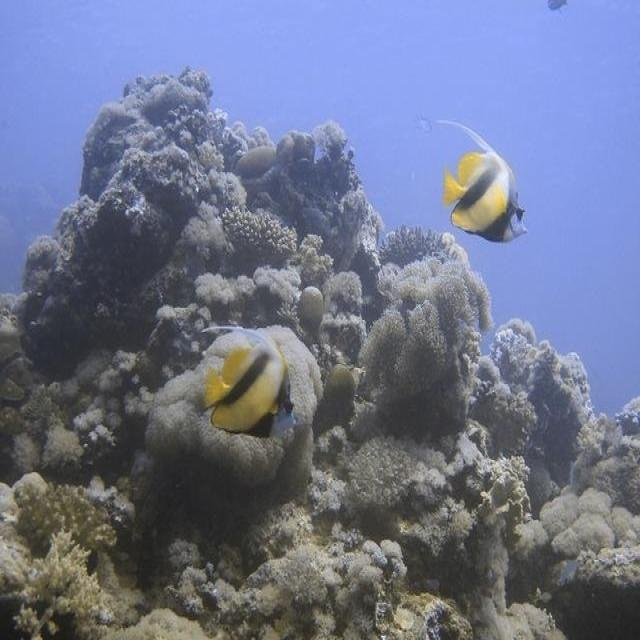fish: (438, 121, 530, 244), (201, 326, 296, 441)
reefs: (358, 258, 494, 430), (347, 437, 421, 507), (221, 209, 298, 270)
